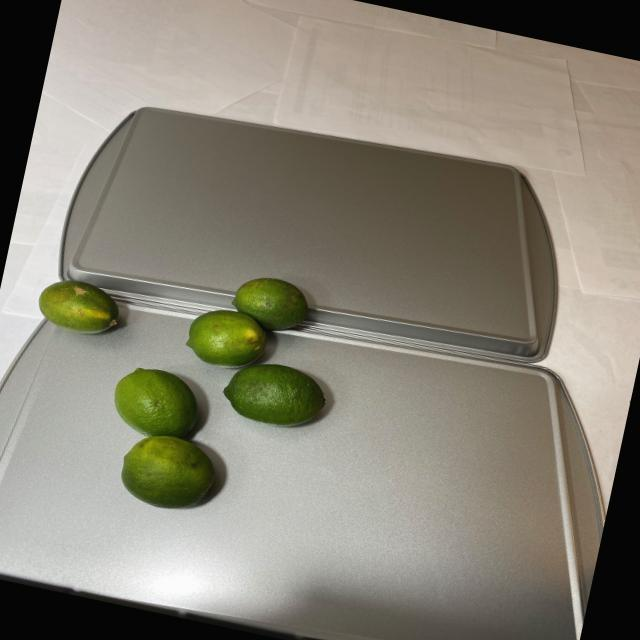lemon: (98, 246, 361, 534), (32, 275, 122, 341)
